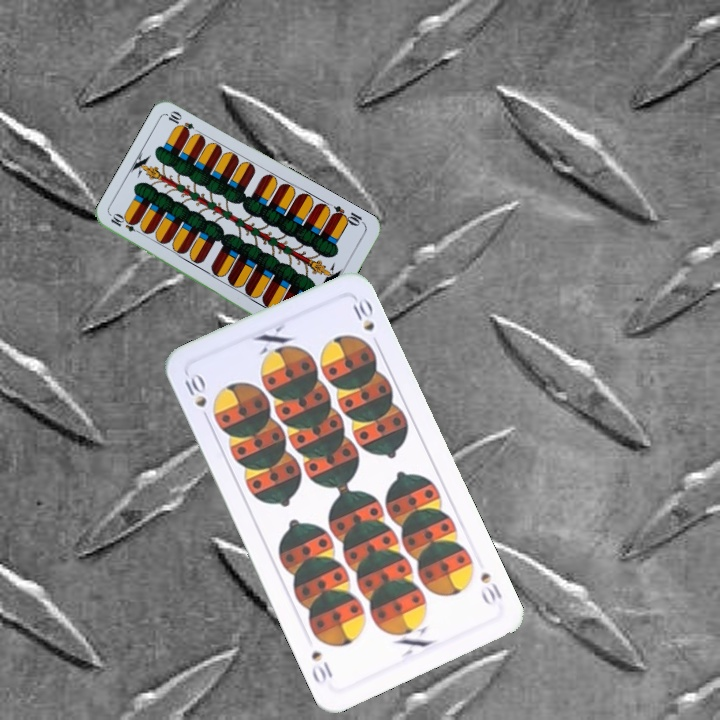E10: (328, 202, 367, 229), (107, 211, 146, 237)
S10: (180, 369, 209, 410), (476, 568, 505, 609)
